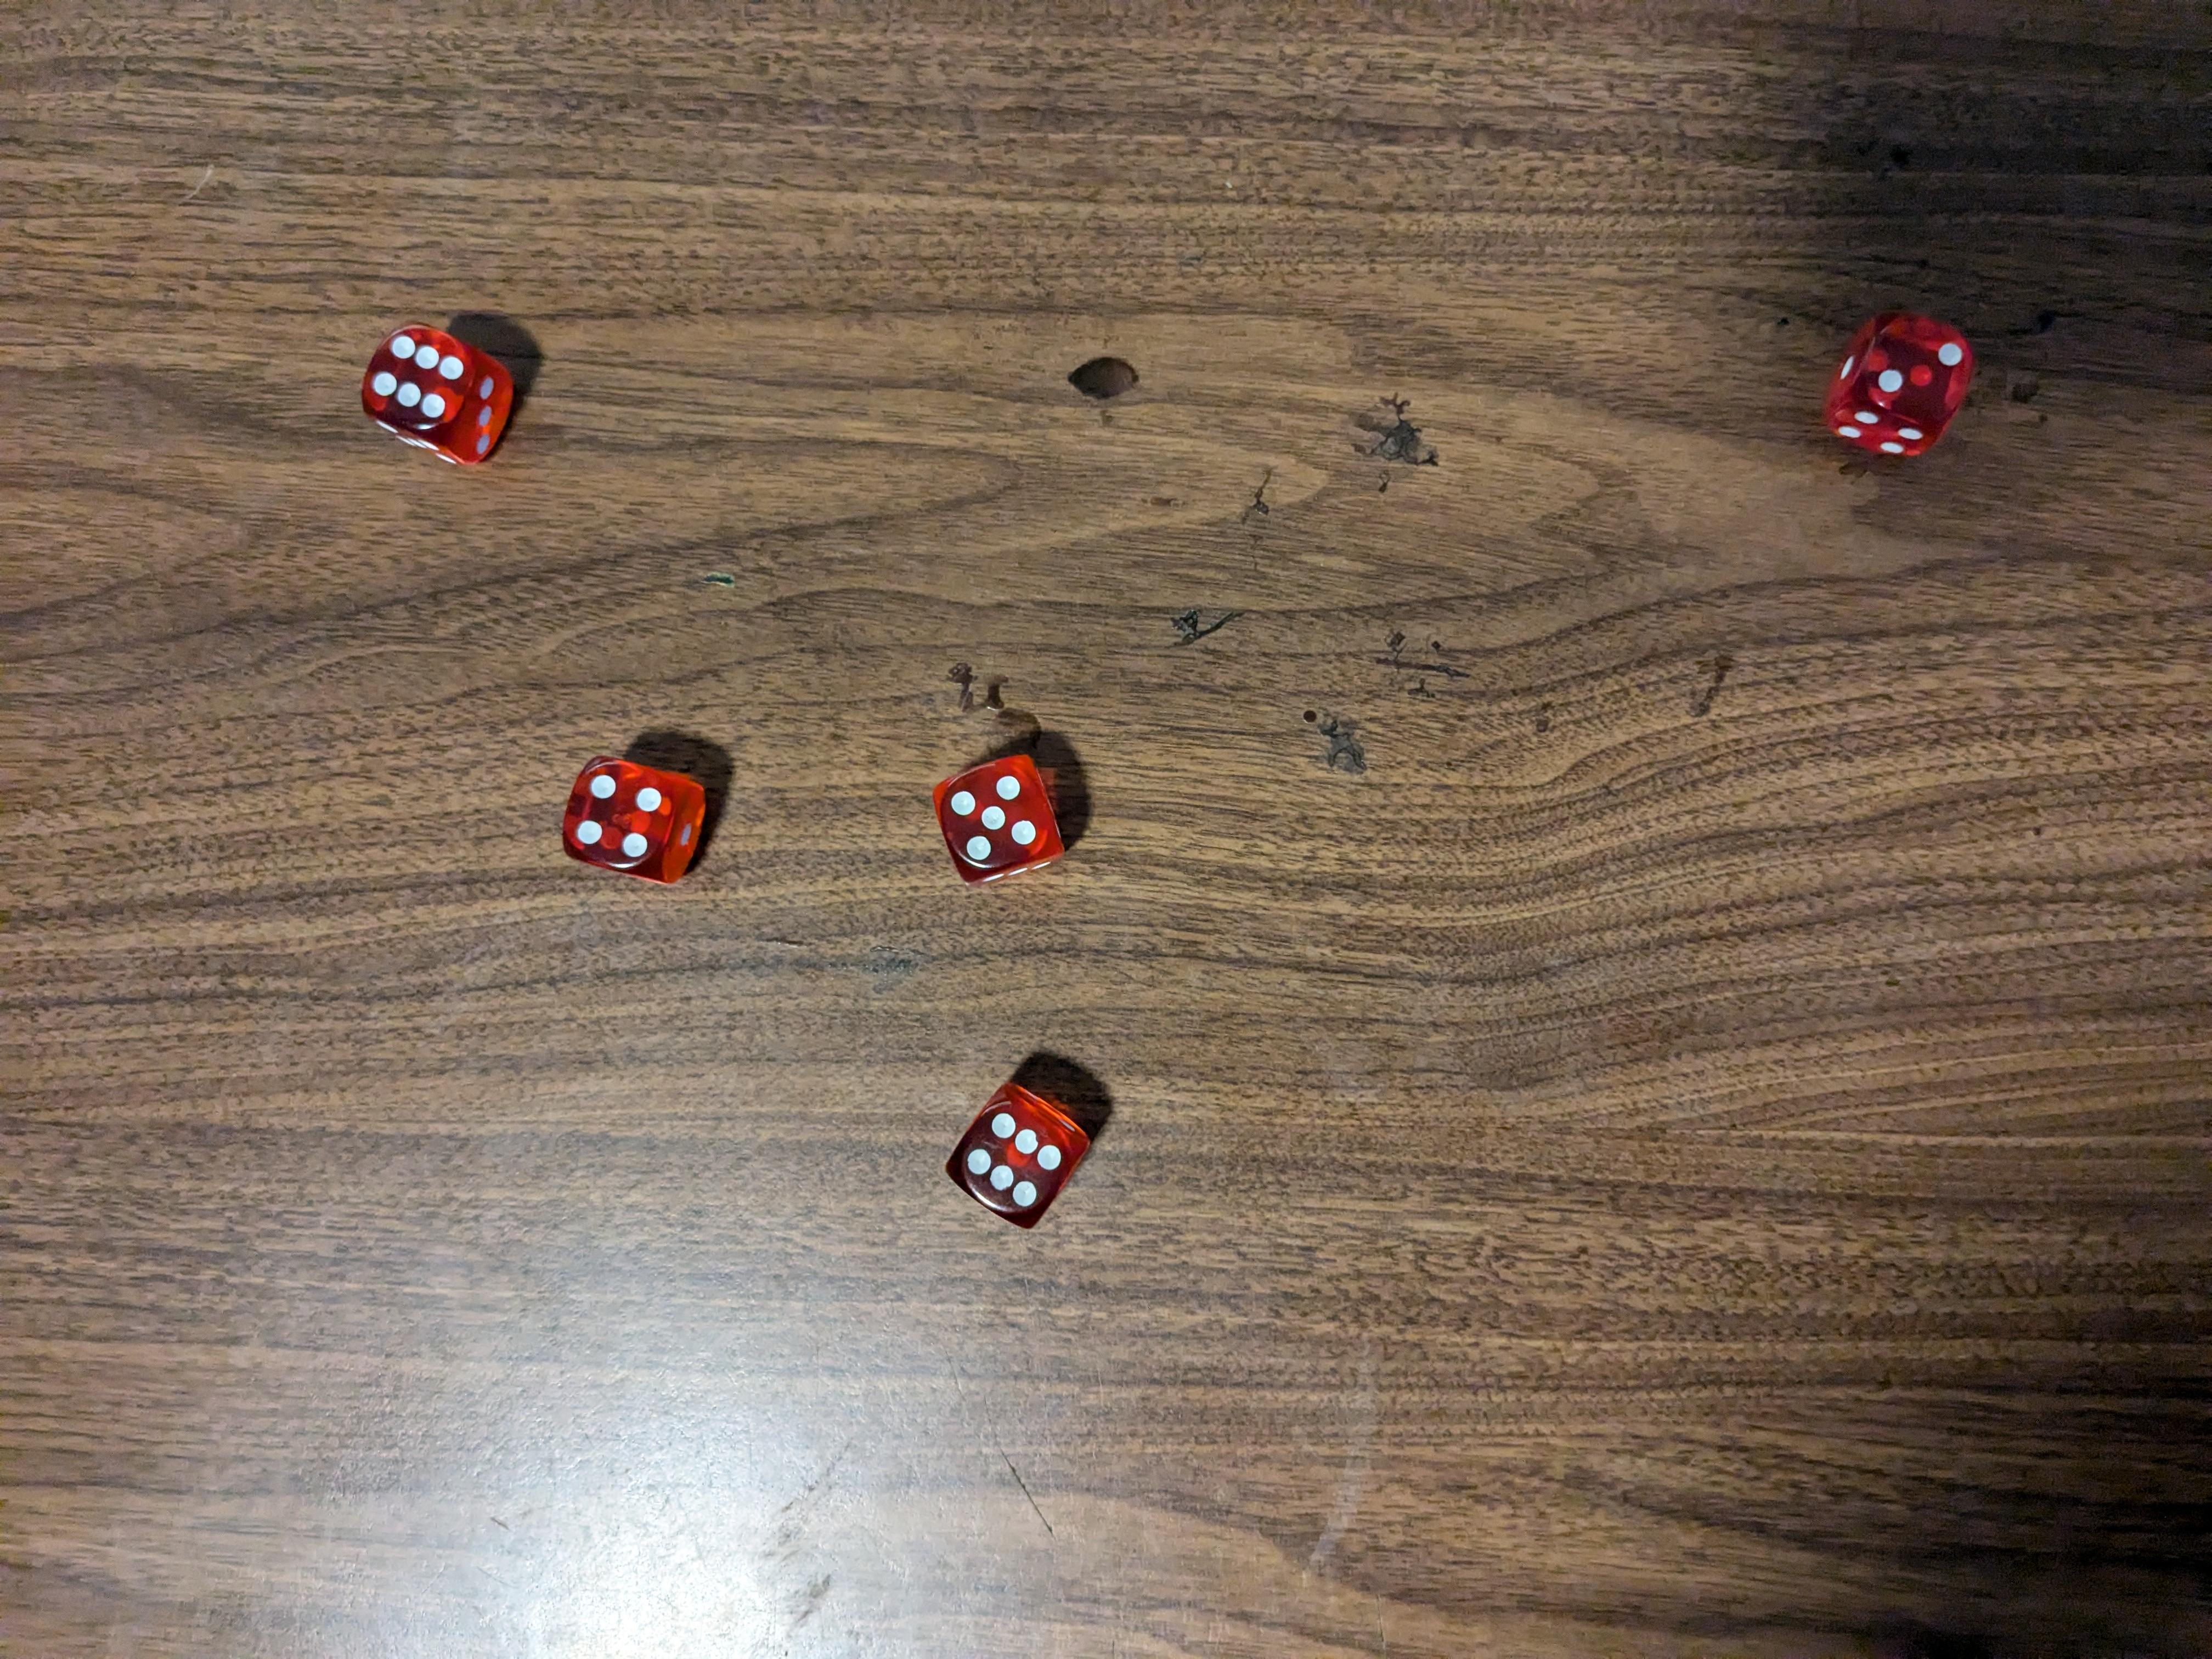five: (925, 751, 1071, 897)
four: (561, 756, 718, 896)
six: (355, 321, 524, 472), (948, 1084, 1087, 1234)
two: (1831, 312, 1980, 462)
